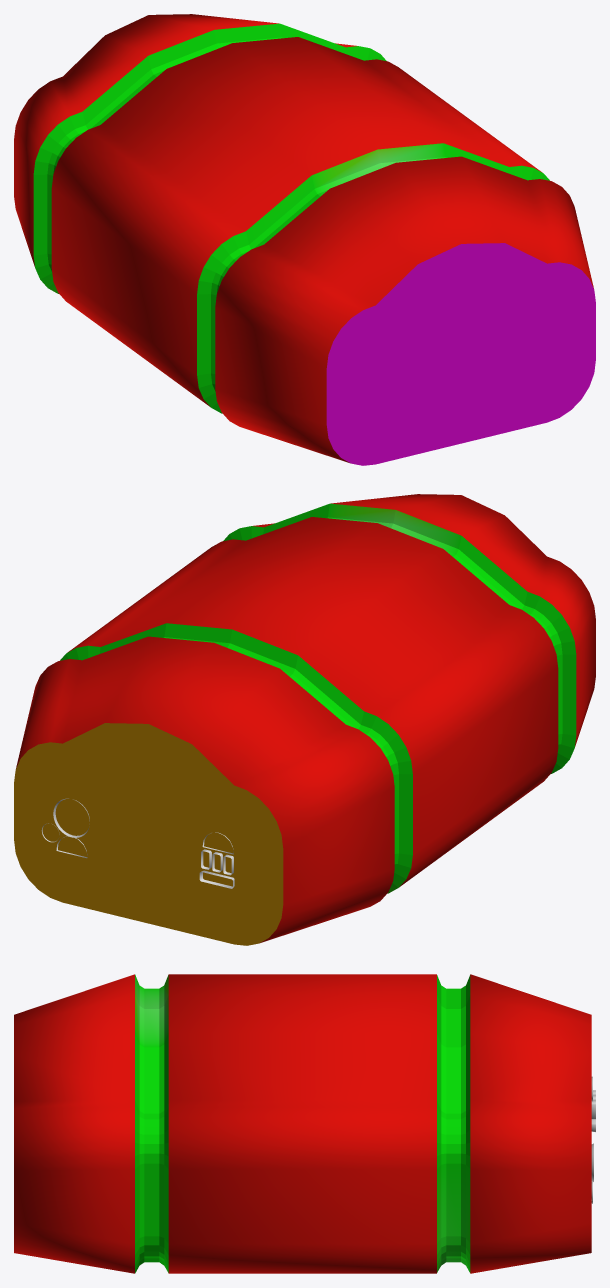
File: commandRoom_High.fbx
3 renders of one model, top to bottom at view 1: azimuth 30°, elevation 25°; view 2: azimuth 150°, elevation 25°; view 3: azimuth 270°, elevation 25°, orthographic. The views are drawn at different scales.
Visible parts, largest first — view 1: SubInteriorHighPoly; view 2: SubInteriorHighPoly; view 3: SubInteriorHighPoly.
Part boxes in pixels (x1,y1,x2,y2): SubInteriorHighPoly: (14, 14, 595, 465); SubInteriorHighPoly: (14, 494, 595, 945); SubInteriorHighPoly: (14, 974, 595, 1273).
Bounding box in the file's own units: 600 × 370 × 907.
